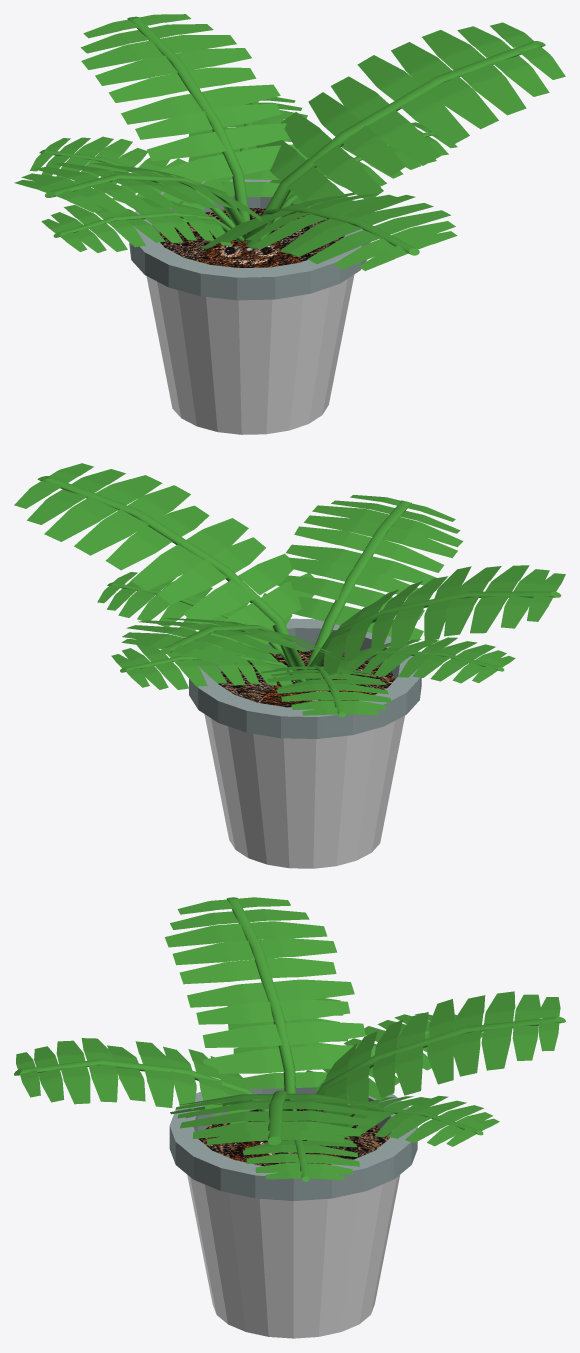
File: pottedplant1.fbx
3 views of the same model, one above another, from view 1: azimuth 30°, elevation 25°; view 2: azimuth 150°, elevation 25°; view 3: azimuth 270°, elevation 25° (orthographic). The views are drawn at different scales.
Visible parts, largest first — view 1: pPipe2, group14_pasted__group12_pasted__pasted__pCylinder1, group13_pasted__group12_pasted__pasted__pCylinder1, group11_pasted__pPlane1, pasted__pCylinder1, group16_pasted__group15_pasted__pasted__group12_pasted__past, group15_pasted__group12_pasted__pasted__pCylinder1, group17_pasted__group15_pasted__pasted__group12_pasted__past, group19; view 2: pPipe2, group14_pasted__group12_pasted__pasted__pCylinder1, group11_pasted__pPlane1, pasted__pCylinder1, group13_pasted__group12_pasted__pasted__pCylinder1, group16_pasted__group15_pasted__pasted__group12_pasted__past, group17_pasted__group15_pasted__pasted__group12_pasted__past, group15_pasted__group12_pasted__pasted__pCylinder1, group19; view 3: pPipe2, pasted__pCylinder1, group13_pasted__group12_pasted__pasted__pCylinder1, group11_pasted__pPlane1, group14_pasted__group12_pasted__pasted__pCylinder1, group17_pasted__group15_pasted__pasted__group12_pasted__past, group19, group16_pasted__group15_pasted__pasted__group12_pasted__past, group15_pasted__group12_pasted__pasted__pCylinder1.
Part boxes in pixels (left/top/right/bottom): pPipe2: left=129, top=179, right=370, bottom=434; group14_pasted__group12_pasted__pasted__pCylinder1: left=245, top=22, right=565, bottom=248; group13_pasted__group12_pasted__pasted__pCylinder1: left=80, top=14, right=307, bottom=221; group11_pasted__pPlane1: left=200, top=192, right=457, bottom=270; pasted__pCylinder1: left=14, top=162, right=269, bottom=239; group16_pasted__group15_pasted__pasted__group12_pasted__past: left=41, top=197, right=244, bottom=252; group15_pasted__group12_pasted__pasted__pCylinder1: left=30, top=136, right=235, bottom=228; group17_pasted__group15_pasted__pasted__group12_pasted__past: left=188, top=97, right=307, bottom=239; group19: left=259, top=122, right=457, bottom=239; pPipe2: left=189, top=618, right=421, bottom=868; group14_pasted__group12_pasted__pasted__pCylinder1: left=14, top=463, right=314, bottom=682; group11_pasted__pPlane1: left=262, top=495, right=463, bottom=666; pasted__pCylinder1: left=307, top=565, right=565, bottom=675; group13_pasted__group12_pasted__pasted__pCylinder1: left=121, top=618, right=345, bottom=673; group16_pasted__group15_pasted__pasted__group12_pasted__past: left=312, top=637, right=515, bottom=683; group17_pasted__group15_pasted__pasted__group12_pasted__past: left=111, top=640, right=305, bottom=689; group15_pasted__group12_pasted__pasted__pCylinder1: left=255, top=664, right=391, bottom=717; group19: left=97, top=572, right=292, bottom=661; pPipe2: left=169, top=1075, right=417, bottom=1338; pasted__pCylinder1: left=164, top=897, right=375, bottom=1121; group13_pasted__group12_pasted__pasted__pCylinder1: left=299, top=991, right=565, bottom=1126; group11_pasted__pPlane1: left=14, top=1038, right=268, bottom=1124; group14_pasted__group12_pasted__pasted__pCylinder1: left=170, top=1090, right=384, bottom=1145; group17_pasted__group15_pasted__pasted__group12_pasted__past: left=315, top=1096, right=499, bottom=1146; group19: left=237, top=1135, right=359, bottom=1181; group16_pasted__group15_pasted__pasted__group12_pasted__past: left=227, top=998, right=347, bottom=1110; group15_pasted__group12_pasted__pasted__pCylinder1: left=306, top=1013, right=482, bottom=1121.
Size of the model in its own units: 555 by 301 by 495.
Materials: 2 (1 with a texture image).
